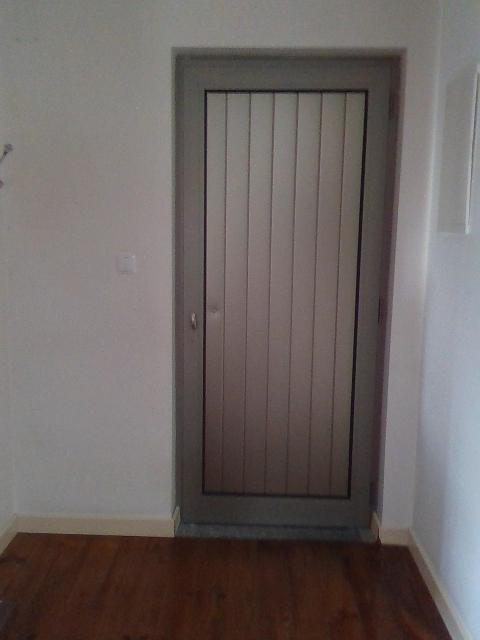door: (181, 58, 391, 529)
